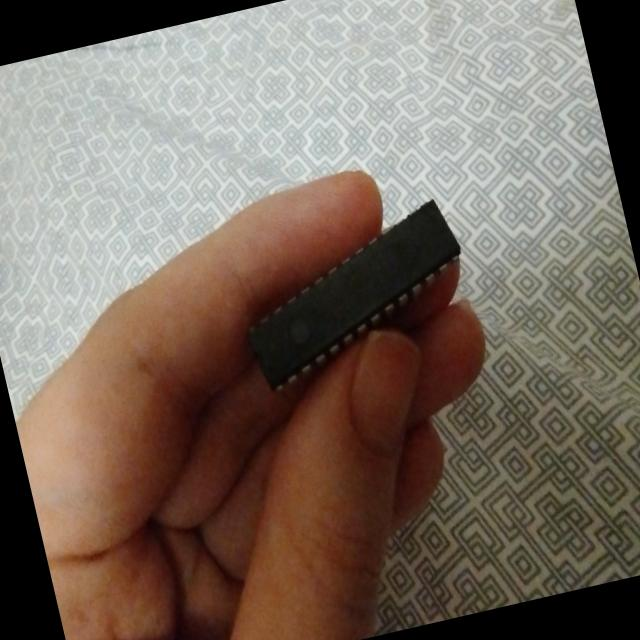atmega: (224, 190, 486, 400)
